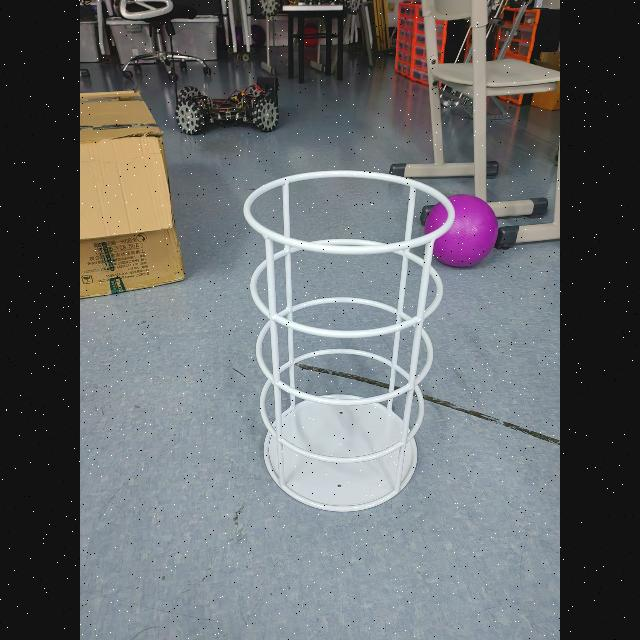S: (240, 168, 458, 512)
